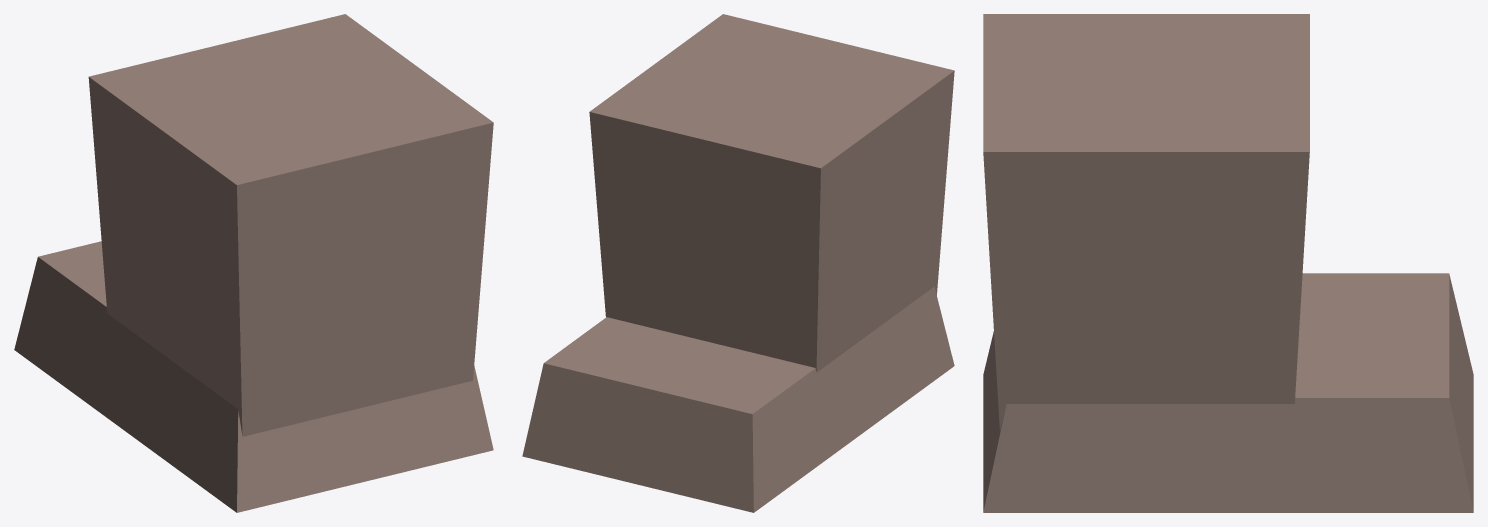
The model's file is animal_armadillo_leg.obj.
The picture shows the model from 3 angles, left to right: view 1: azimuth 30°, elevation 25°; view 2: azimuth 150°, elevation 25°; view 3: azimuth 270°, elevation 25°; orthographic projection. The views are drawn at different scales.
Parts seen in each view (by area): view 1: animal_armadillo_leg; view 2: animal_armadillo_leg; view 3: animal_armadillo_leg.
Part boxes in pixels (x1,y1,x2,y2): animal_armadillo_leg: (14,14,493,512); animal_armadillo_leg: (522,14,954,512); animal_armadillo_leg: (983,14,1473,512).
Bounding box in the file's own units: 0.0574 × 0.07 × 0.0862.
